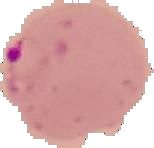parasitized: (8, 32, 60, 94)
